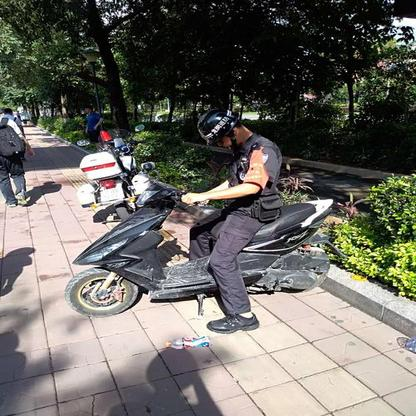target: (64, 107, 334, 337)
